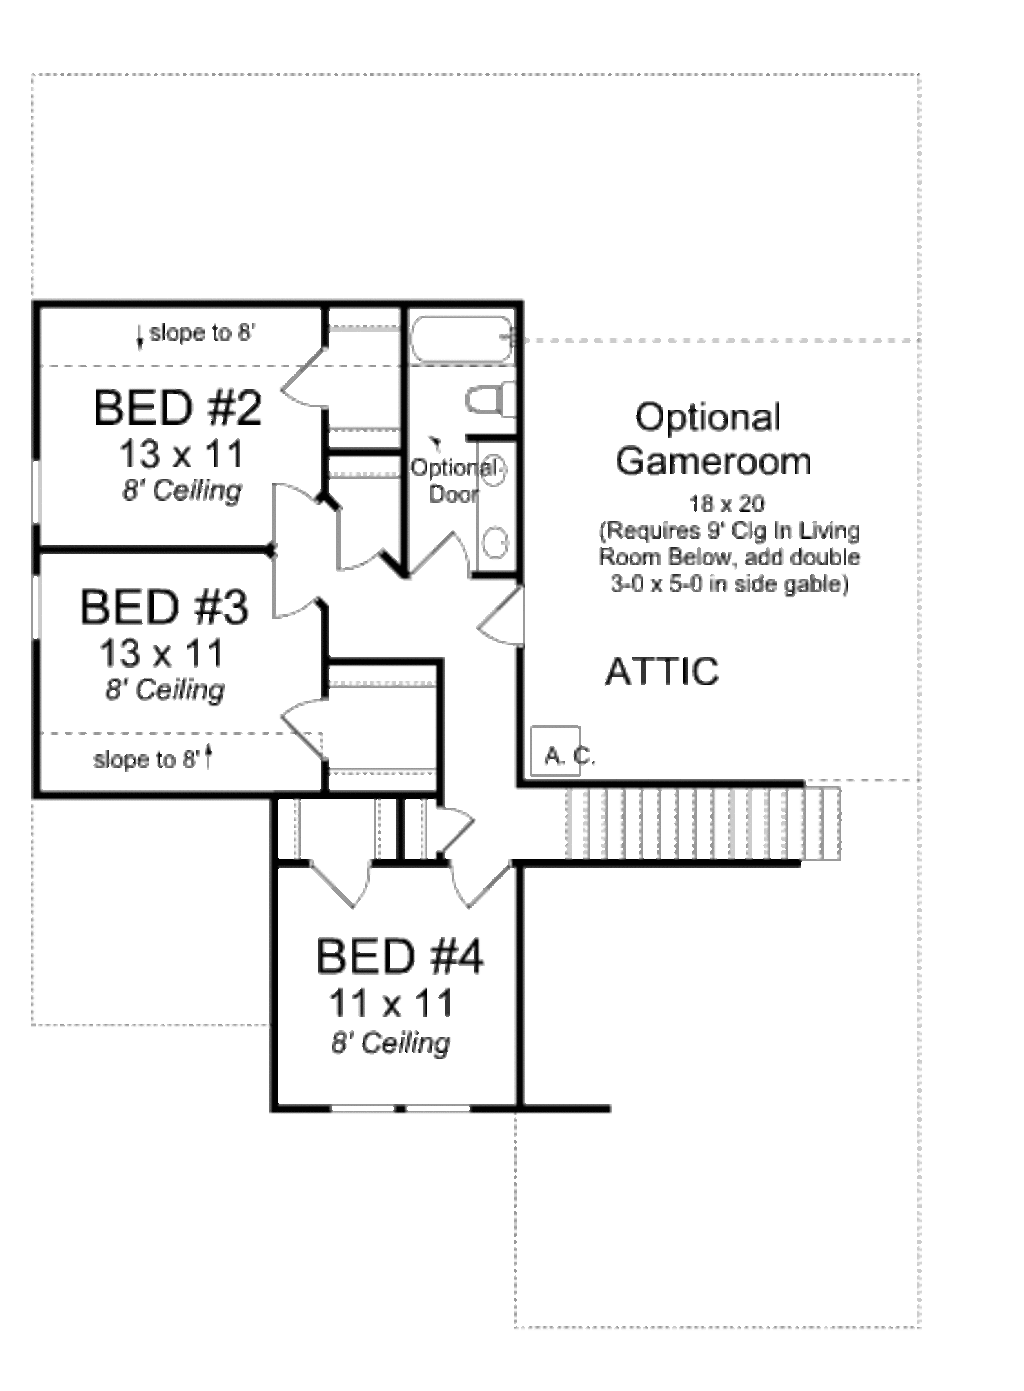door: (309, 845, 383, 922), (337, 500, 405, 576), (262, 552, 322, 630), (278, 691, 331, 772), (407, 535, 474, 596), (472, 588, 539, 644), (426, 798, 485, 859), (278, 350, 333, 415), (268, 483, 318, 554), (441, 857, 511, 904)
large_sink: (455, 383, 531, 428)
small_sink: (468, 437, 515, 580)
stairs: (552, 776, 861, 867)
tub: (405, 303, 520, 374)
window: (339, 1089, 479, 1122), (31, 453, 48, 534), (31, 573, 48, 646)
